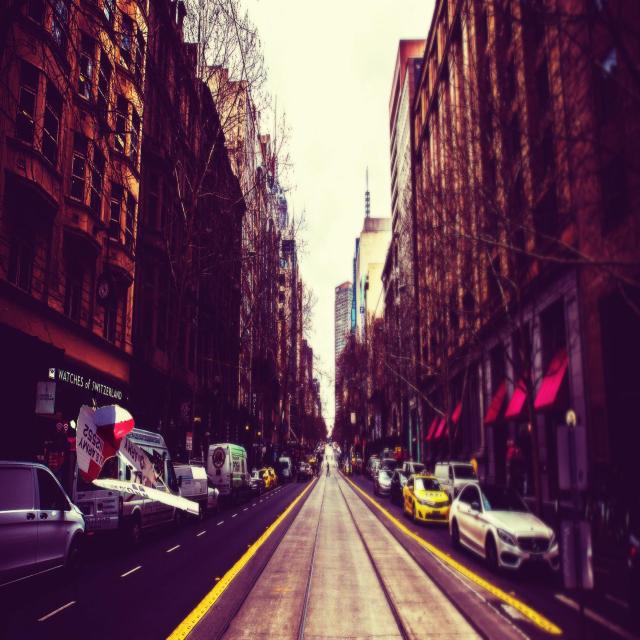airplane: (76, 398, 200, 516)
